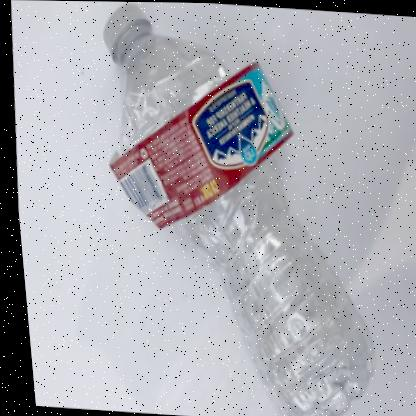Plastic: (103, 4, 368, 416)
